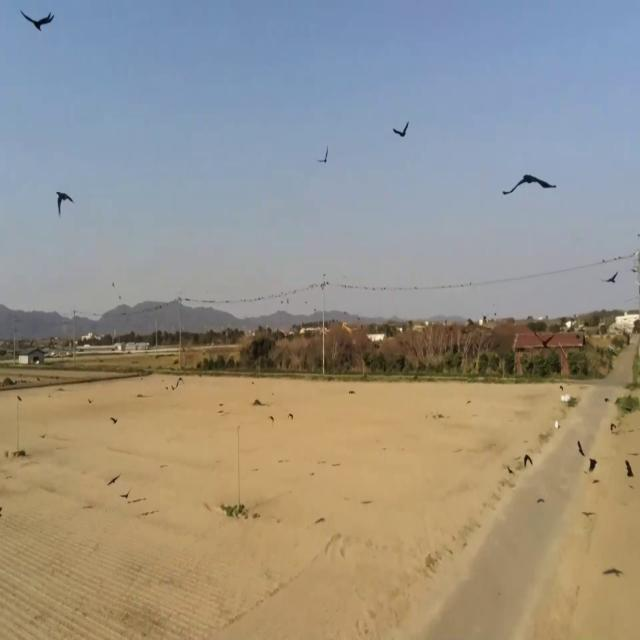bird: (505, 160, 554, 212), (21, 3, 54, 41), (56, 182, 73, 222), (392, 118, 410, 144), (318, 142, 329, 172), (625, 452, 634, 485), (606, 266, 618, 290), (522, 447, 532, 474), (505, 458, 515, 481), (577, 434, 585, 462), (110, 411, 118, 430), (321, 274, 327, 291)
